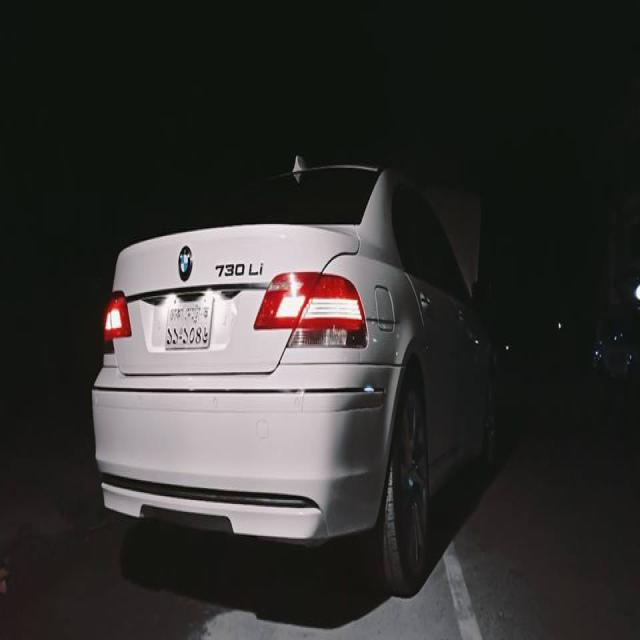numberplate: (164, 293, 213, 351)
